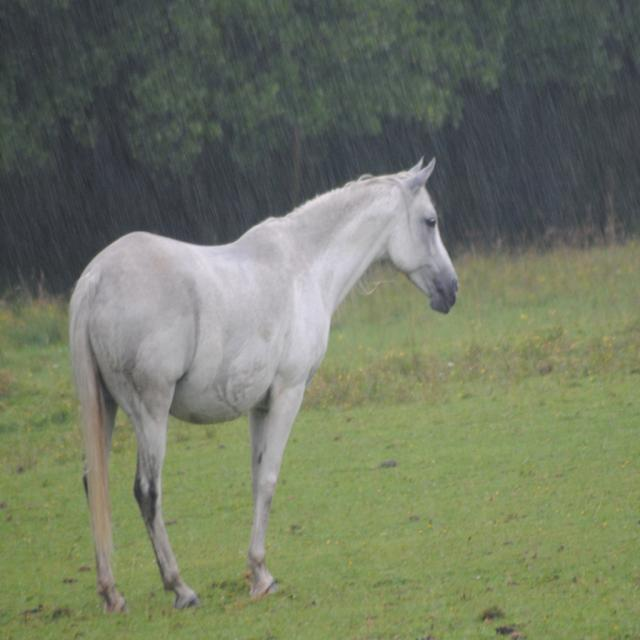Horse: (65, 151, 463, 609)
